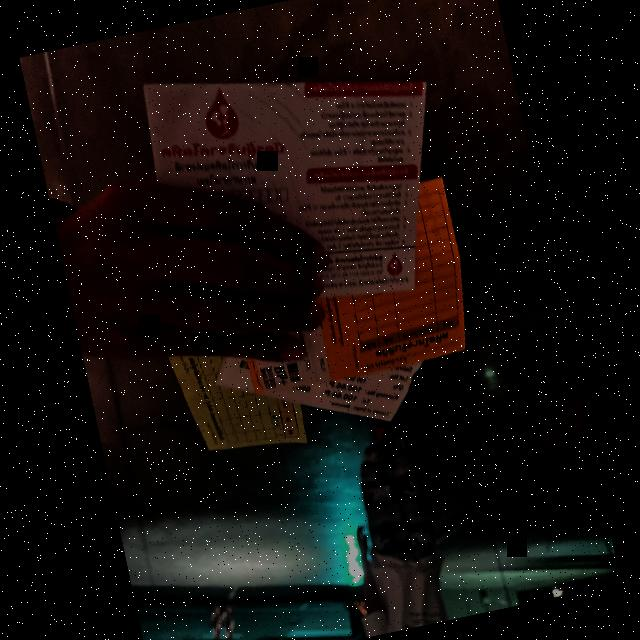scrap_paper: (121, 0, 474, 337), (286, 162, 496, 392), (206, 280, 442, 459), (166, 322, 314, 468)
